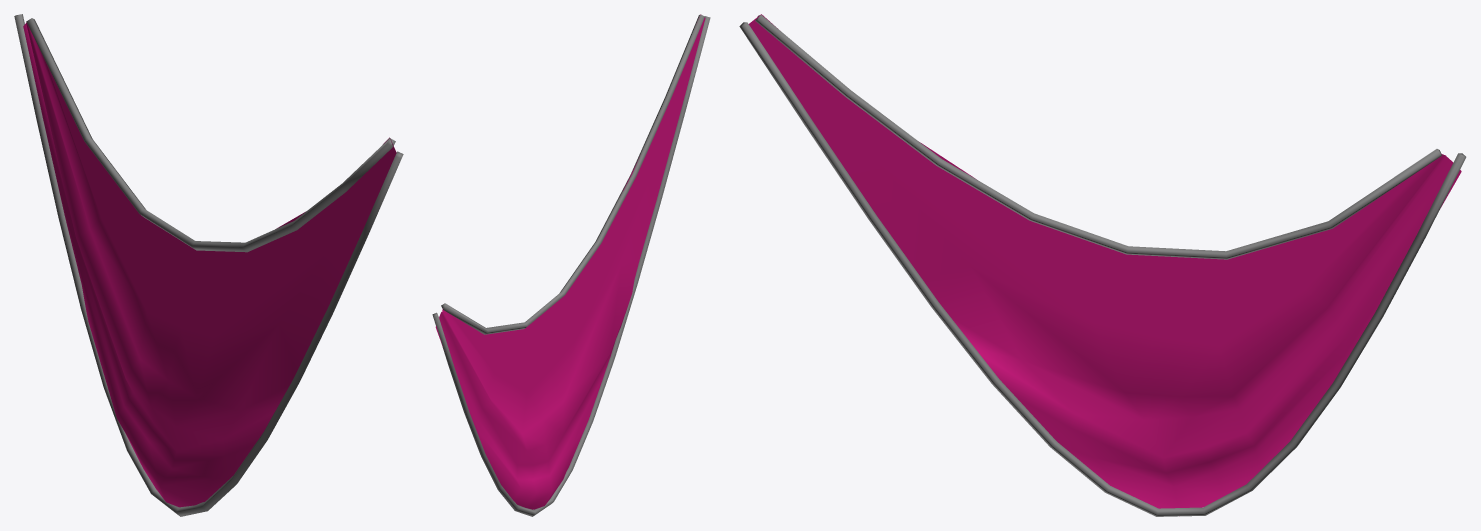
Rendered from SM_Net.fbx.
3 renders of one model, left to right at view 1: azimuth 30°, elevation 25°; view 2: azimuth 150°, elevation 25°; view 3: azimuth 270°, elevation 25°, orthographic. The views are drawn at different scales.
Parts seen in each view (by area): view 1: Line001; view 2: Line001; view 3: Line001.
Part boxes in pixels (x1,y1,x2,y2): Line001: (14, 14, 403, 516); Line001: (432, 14, 710, 516); Line001: (739, 14, 1466, 516).
Size of the model in its own units: 0.0336 by 1.12 by 1.47.
